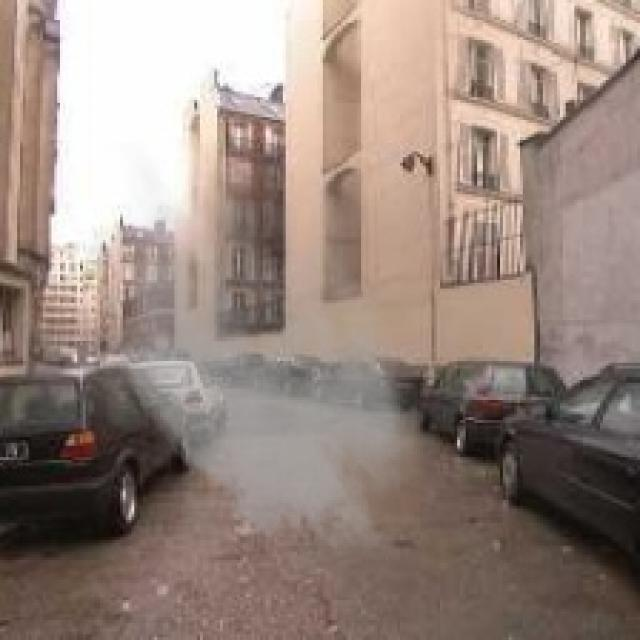Smoke: (74, 143, 443, 566)
